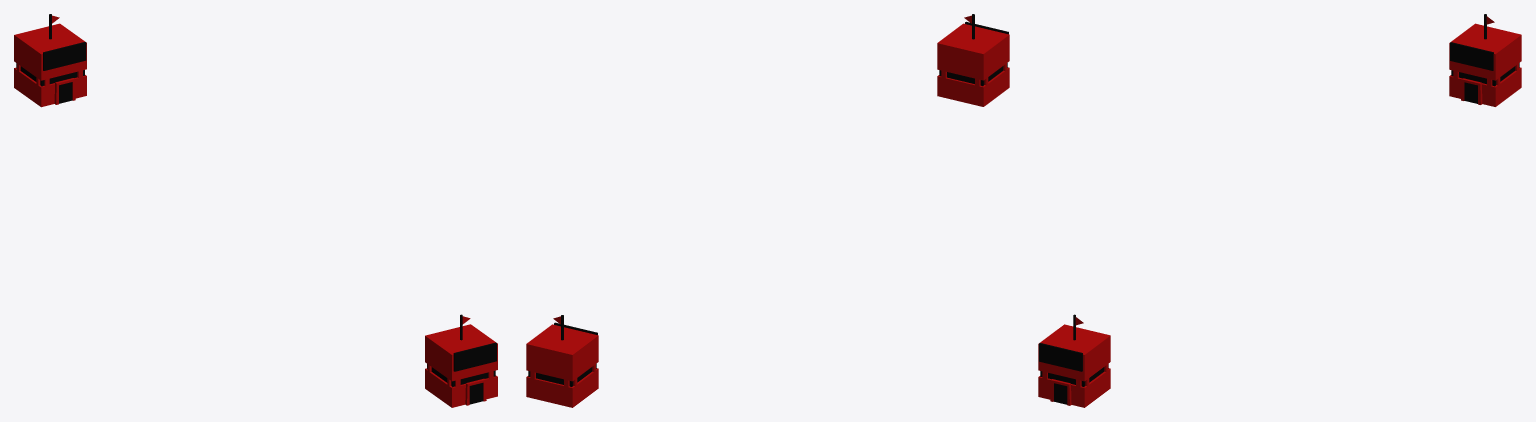
Rendered from Level_1_Kaleler.fbx.
The picture shows the model from 3 angles, left to right: view 1: azimuth 30°, elevation 25°; view 2: azimuth 150°, elevation 25°; view 3: azimuth 330°, elevation 25°; orthographic projection.
Parts seen in each view (by area): view 1: Cube.009, Cube.010; view 2: Cube.009, Cube.010; view 3: Cube.009, Cube.010.
Part boxes in pixels (box(x1,y1,x2,y2)): Cube.009: box(425, 314, 497, 407); Cube.010: box(14, 14, 86, 107); Cube.009: box(937, 14, 1009, 106); Cube.010: box(526, 315, 598, 407); Cube.009: box(1038, 314, 1110, 407); Cube.010: box(1449, 14, 1521, 106).
Bounding box in the file's own units: 83.21 × 132 × 1359.
